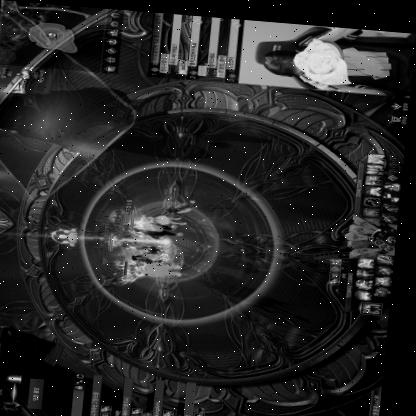streamer: (260, 17, 416, 91)
